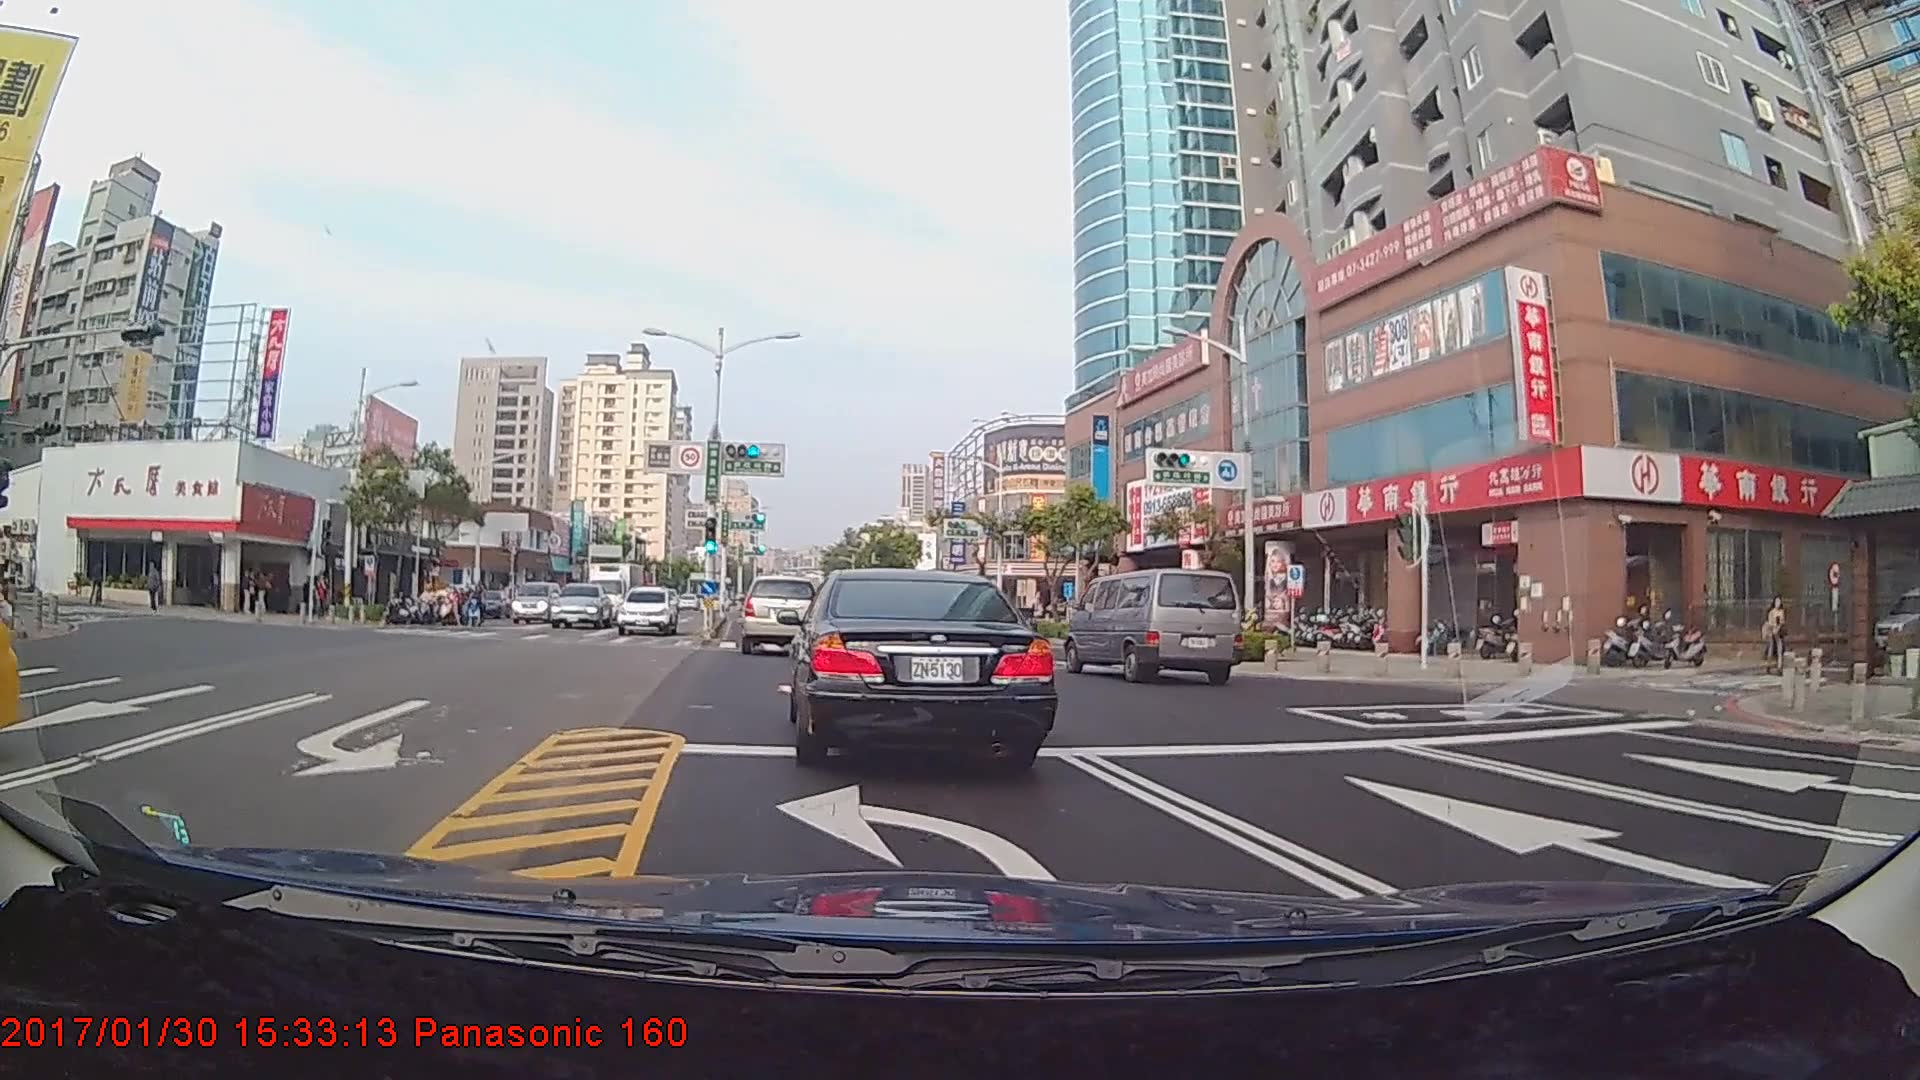pedestrian: (1766, 592, 1790, 663), (242, 567, 262, 618), (255, 571, 275, 619), (144, 562, 164, 612)
vehicle: (789, 562, 1050, 770), (1070, 565, 1239, 686), (740, 576, 820, 653), (596, 554, 656, 626), (550, 582, 615, 630), (619, 585, 678, 637), (512, 579, 568, 625)
